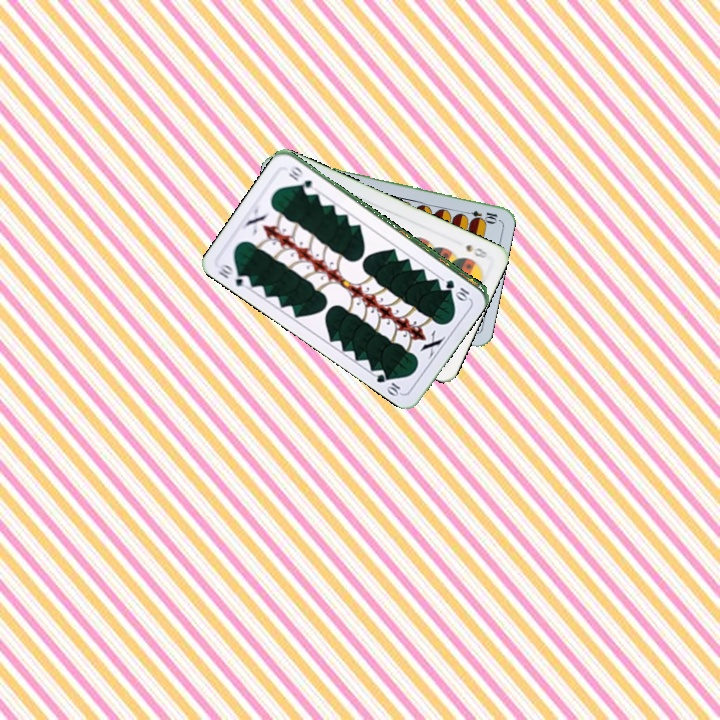E10: (459, 206, 500, 224)
G10: (214, 260, 253, 291), (441, 276, 472, 302)
S8: (461, 240, 491, 261)
